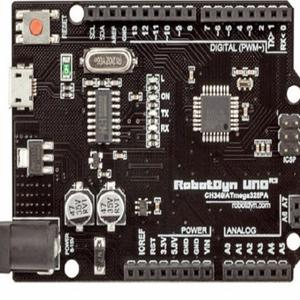duino: (7, 3, 300, 285)
